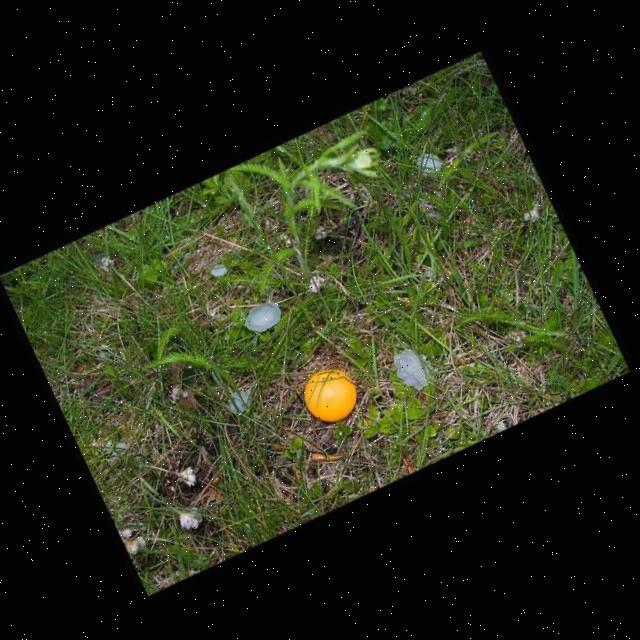ping-pong-ball: (295, 360, 368, 430)
